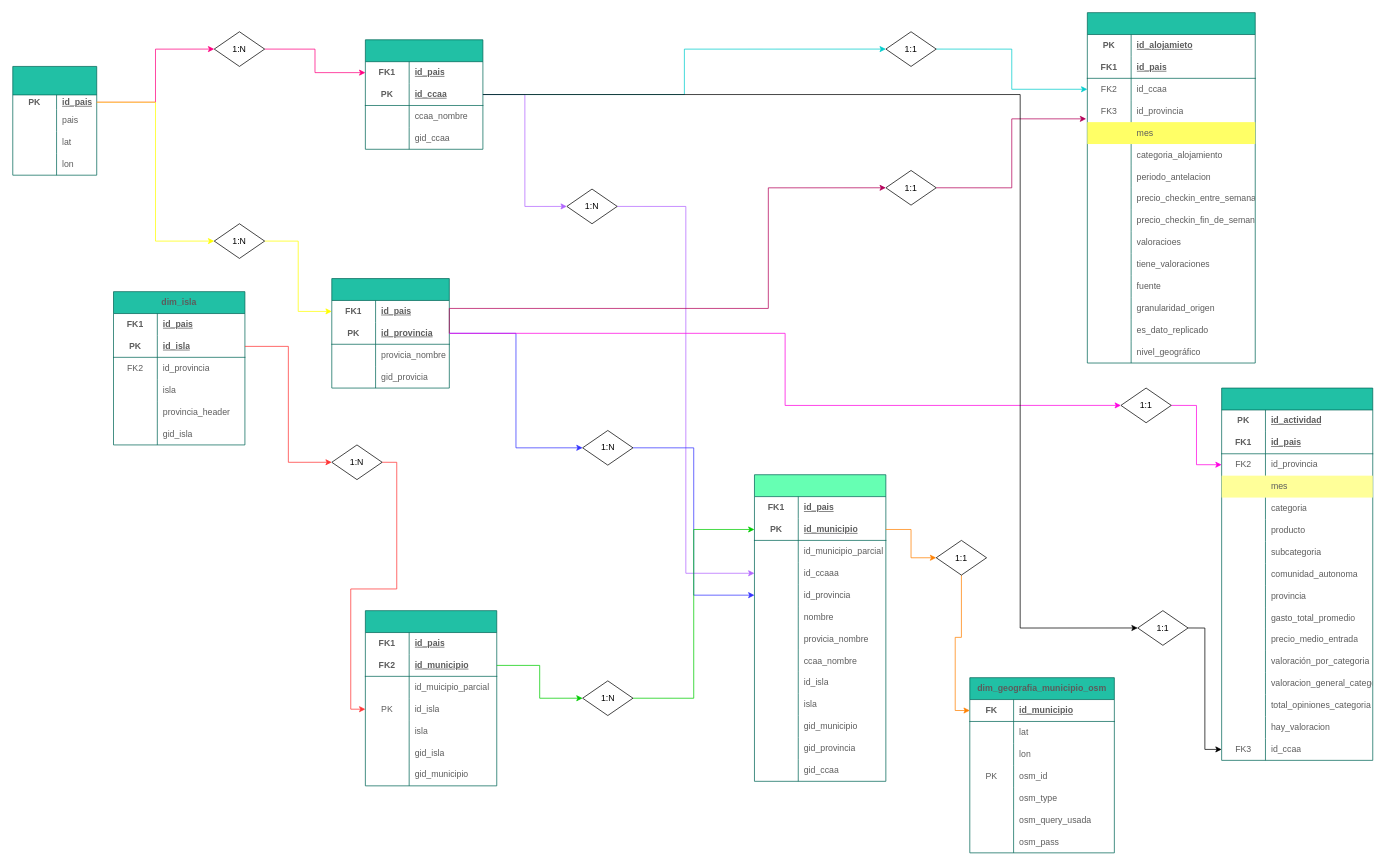
This 1398x866 diagram has some shape labels left out. The shapes that lost their labels are listed below. From the top down, each one's box as (x1, y1, x2, y2) in pixels, then its label:
(365, 39, 483, 149): dim_ccaa_base
(12, 66, 97, 175): dim_pais
(1087, 12, 1255, 363): Alojamientos
(331, 278, 449, 388): dim_provincia
(1221, 387, 1373, 760): fac_actividades_enriquecida
(754, 474, 886, 781): dim_municipio_final
(365, 610, 497, 786): rel_municipio_isla
